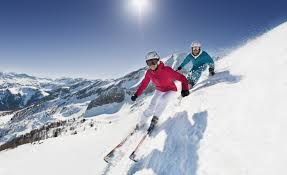skis: (104, 124, 154, 167)
